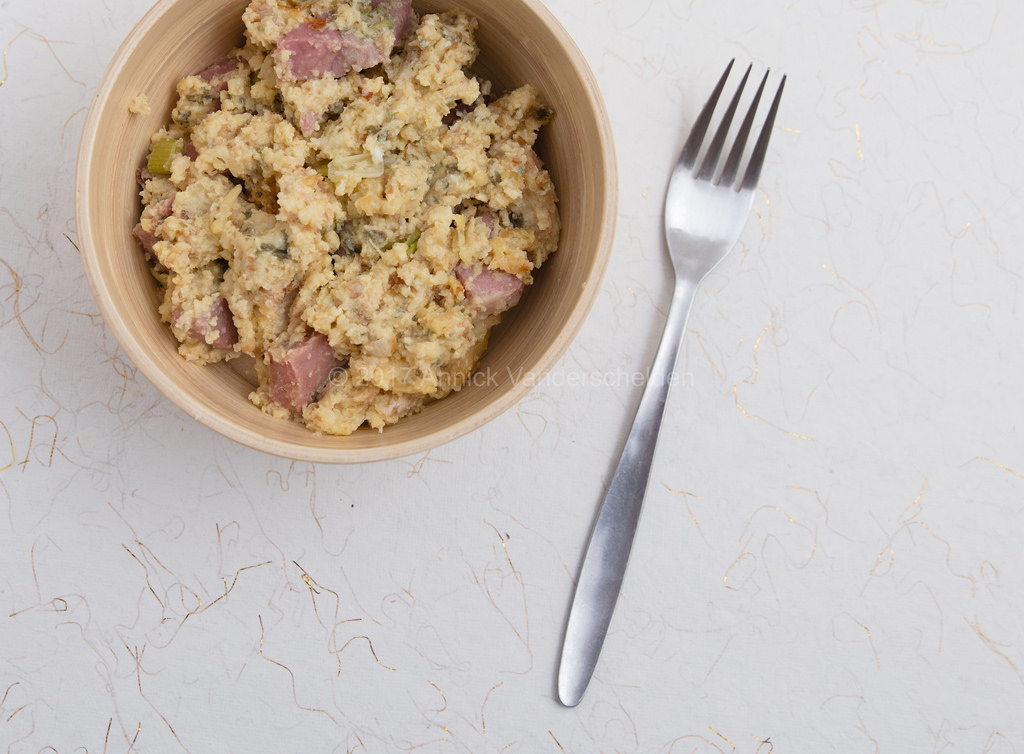plain rice: (204, 79, 493, 372)
